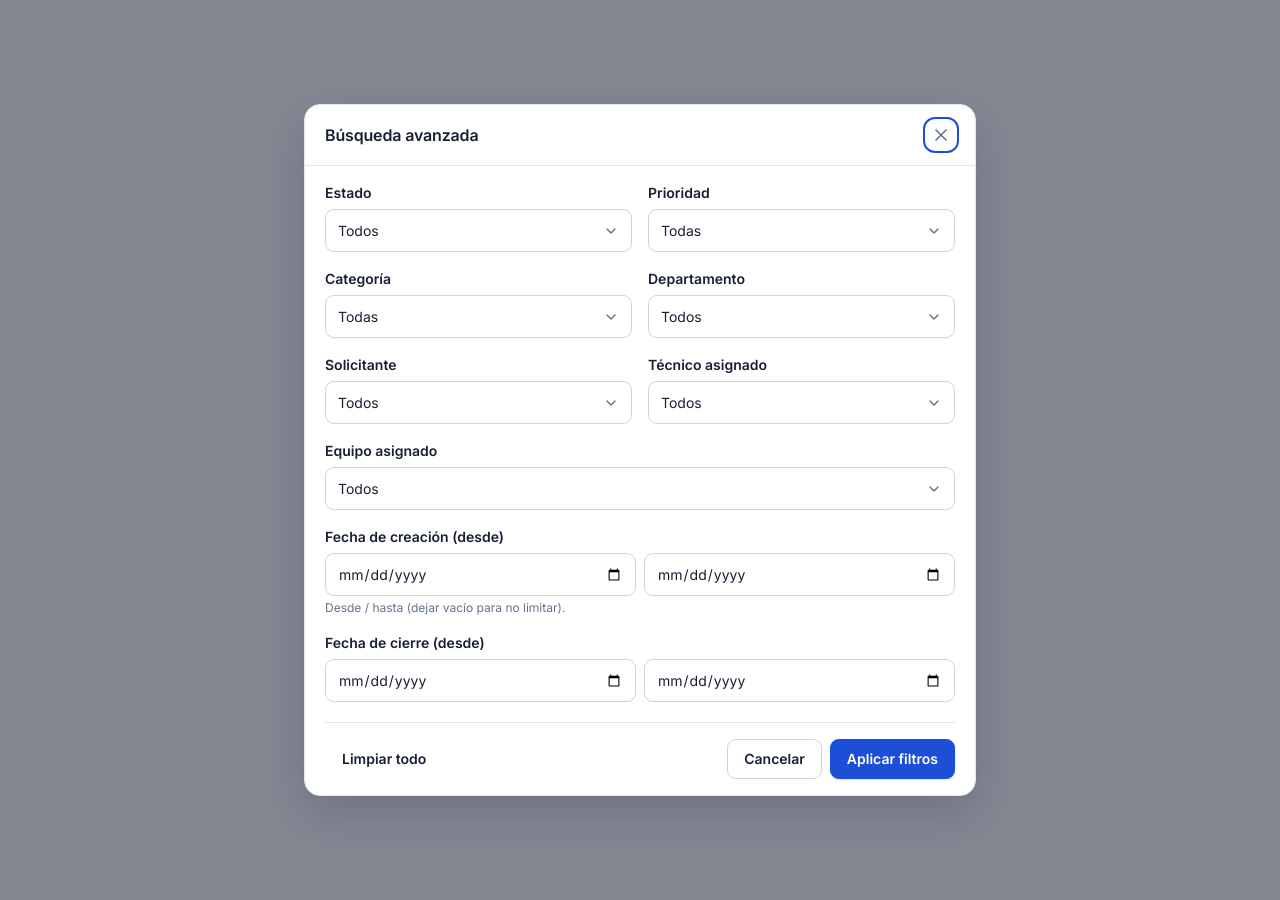
Test case: AdvancedSearchModal · directorios según la función › con ticket.view.all carga los directorios y ofrece sus filtros
This screenshot has width=1280, height=900.
Check: the dialog "Búsqueda avanzada" is shown, box [304,104,976,796]
Check: the dropdown named "Técnico asignado" is shown, box [648,381,955,424]
Click the dropdown named "Solicitante".
click(358, 402)  # box [325,381,632,424]
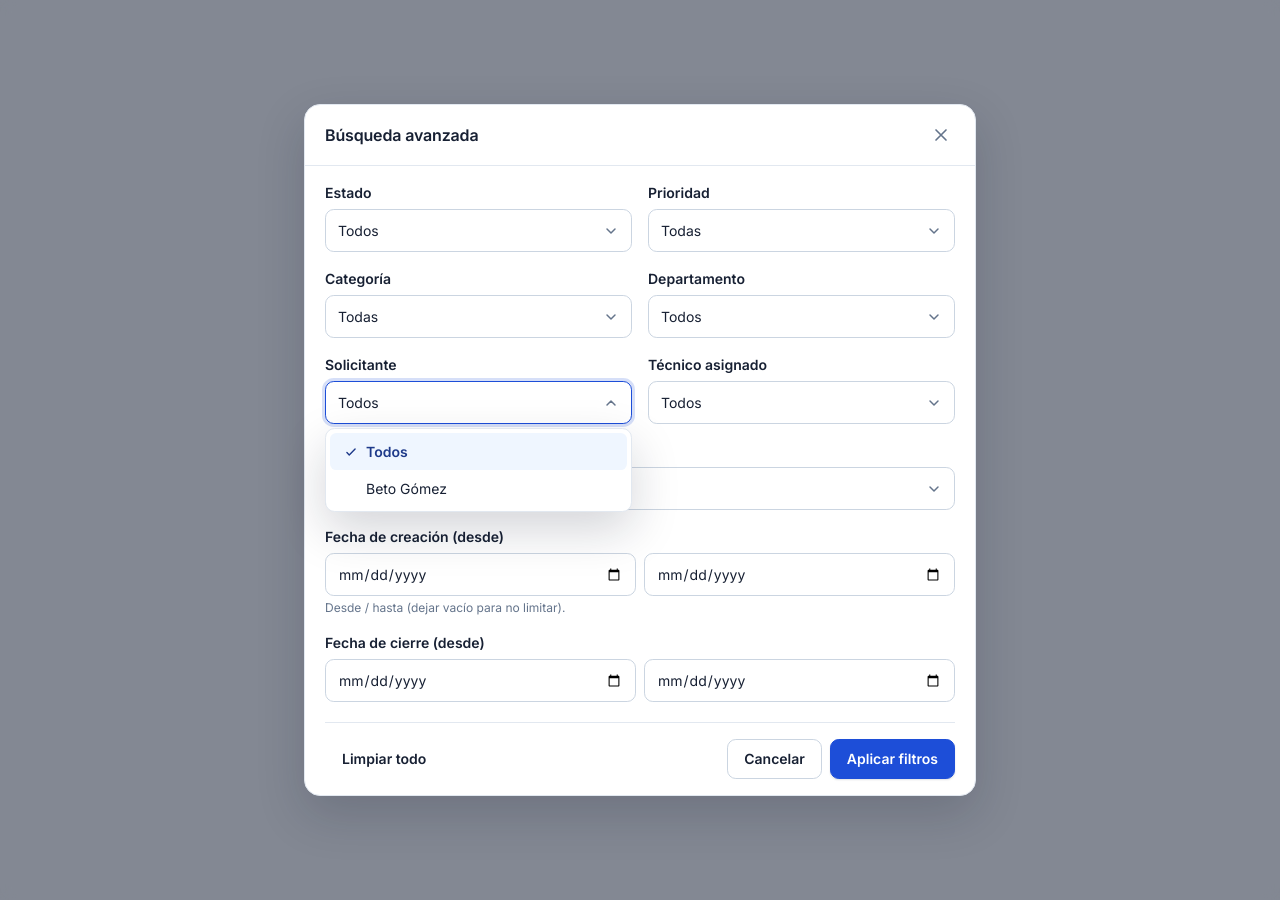
Check: the option "Beto Gómez" is shown
Click the option "Beto Gómez".
click(406, 488)  # box [366,480,447,497]
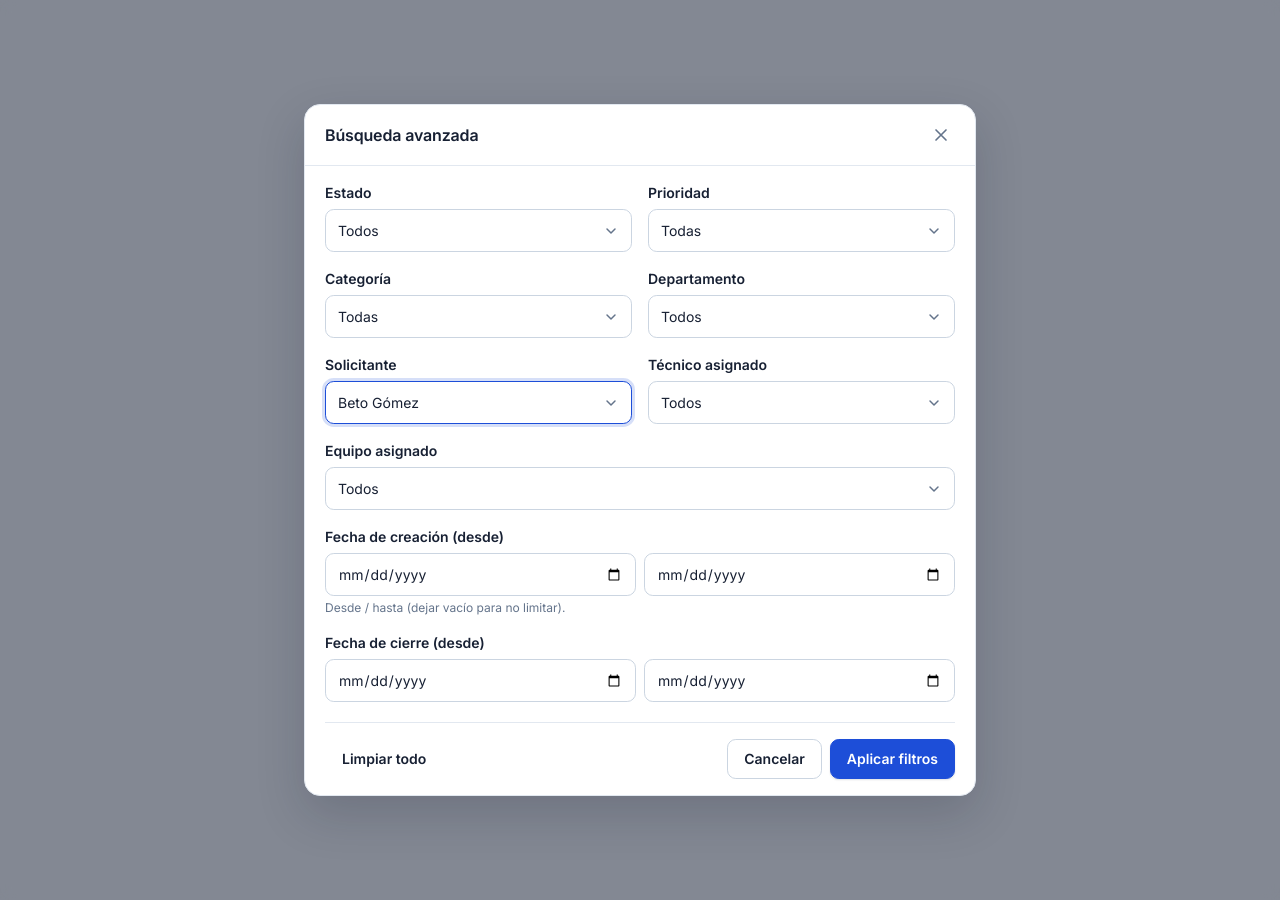
El contador de miembros del equipo se conserva tal cual lo pintaba el nativo.
Click the dropdown named "Equipo asignado".
click(358, 488)  # box [325,467,955,510]
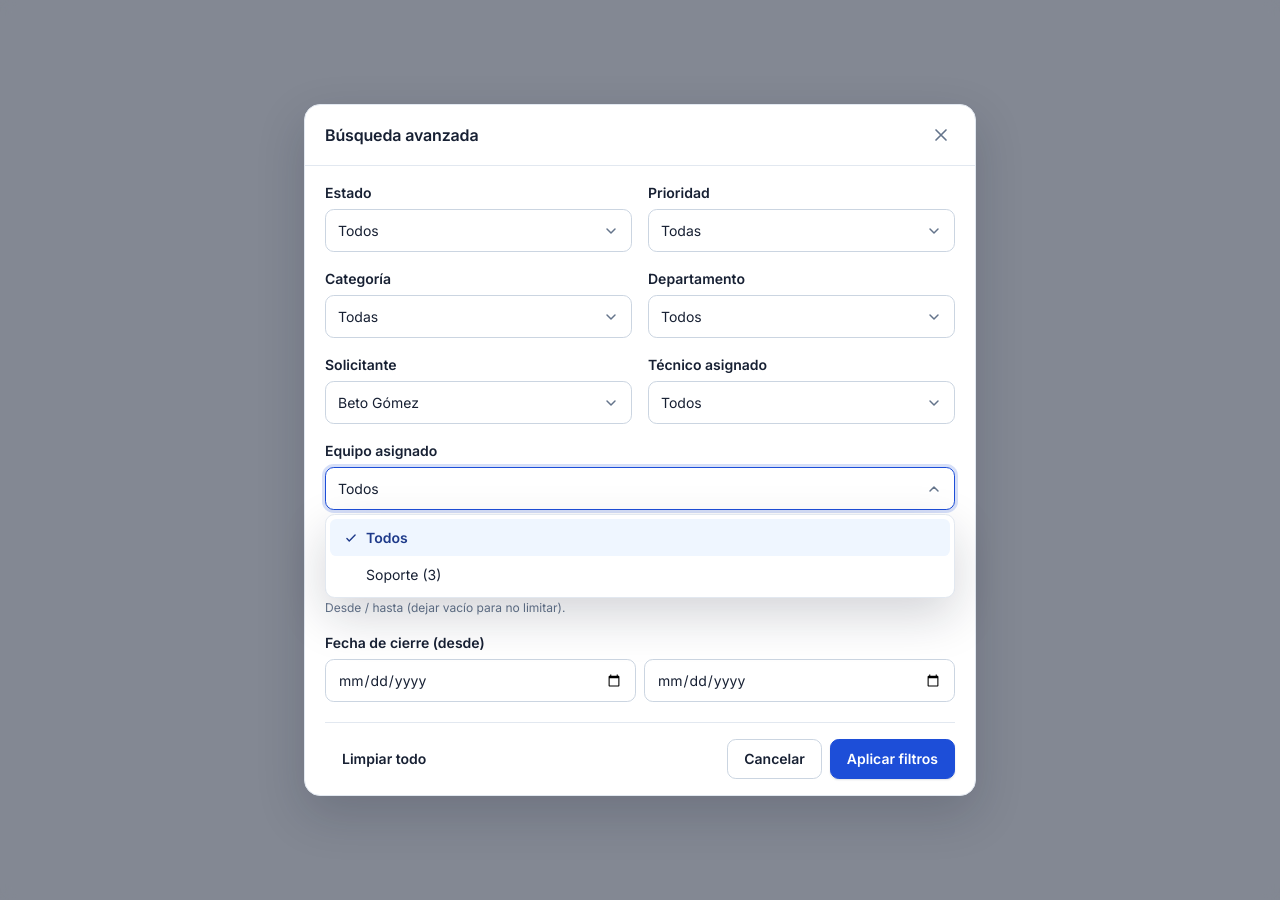
Check: the option "Soporte (3)" is shown, box [366,566,441,583]
